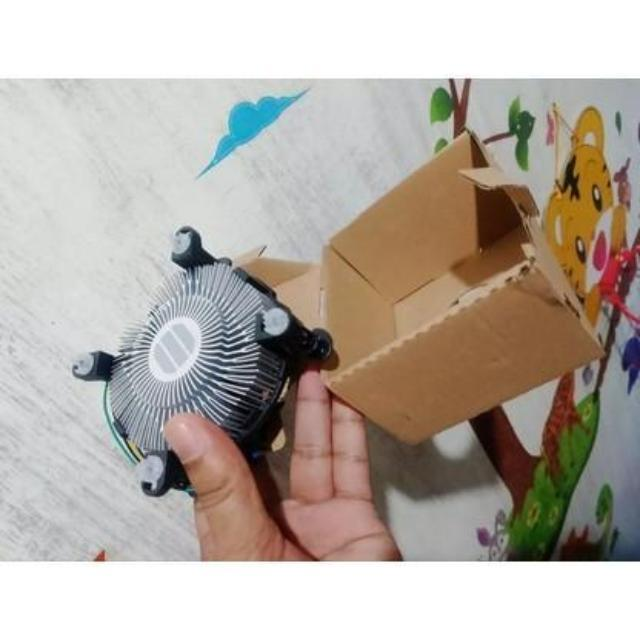CPU_Fan: (72, 227, 334, 502)
